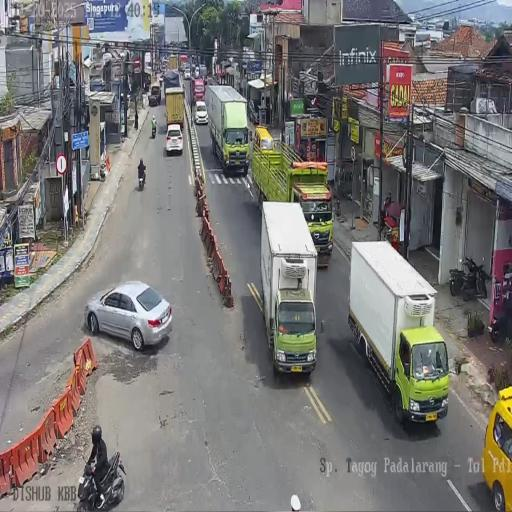3: (348, 240, 446, 425), (260, 201, 316, 373), (206, 82, 249, 174), (192, 77, 206, 103), (144, 52, 152, 74), (168, 55, 178, 71), (179, 54, 187, 71)
car: (84, 280, 173, 351), (166, 122, 184, 156), (194, 100, 208, 125), (150, 83, 161, 107), (247, 100, 257, 124), (198, 65, 207, 78), (184, 69, 191, 80), (159, 72, 164, 84)
truck: (76, 449, 126, 511), (448, 252, 488, 301), (489, 308, 508, 342), (138, 166, 146, 191), (152, 121, 156, 138)
